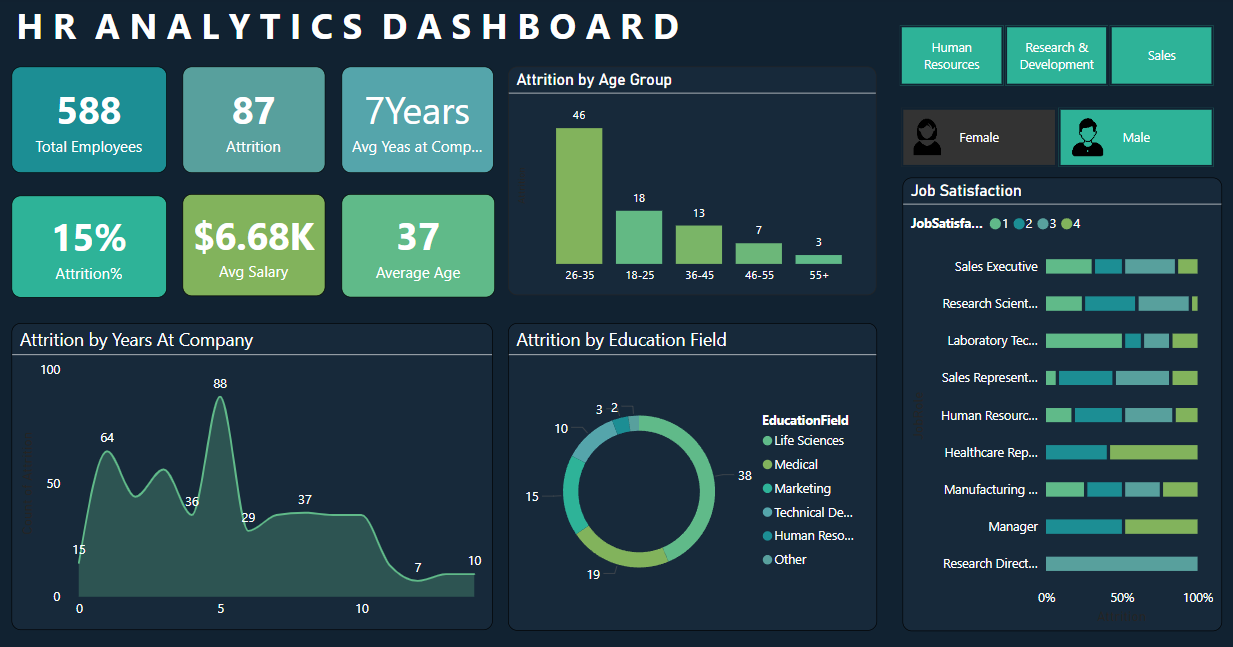

What the dashboard file says about the page in this screenshot:
{"tool":"powerbi","page":{"name":"Page 1","canvas":[1317,720],"ordinal":0},"visuals":[{"type":"card","title":"Total Employees","fields":{"Values":["Measures (2).employee_count"]},"box":[15,75,165,113.3],"z":0},{"type":"areaChart","title":"Attrition by Years At Company","fields":{"Y":["CountNonNull(HR_Analytics.Attrition)"],"Category":["HR_Analytics.YearsAtCompany"]},"box":[15,348.3,511.7,326.7],"z":1000},{"type":"card","fields":{"Values":["Measures (2).Avg_Years_at_Company"]},"box":[365,75,161.7,113.3],"z":2000},{"type":"card","fields":{"Values":["Measures (2).Attrition%"]},"box":[15,211.7,165,108.3],"z":3000},{"type":"card","fields":{"Values":["Measures (2).AvgSalary"]},"box":[196.7,210,151.7,108.3],"z":4000},{"type":"card","fields":{"Values":["Measures (2).AverageAge"]},"box":[365,210,163.3,110],"z":5000},{"type":"donutChart","title":"Attrition by Education Field","fields":{"Y":["Measures (2).Attrition"],"Category":["HR_Analytics.EducationField"]},"box":[542.5,347.5,392.5,327.5],"z":6000},{"type":"columnChart","title":"Attrition by Age Group","fields":{"Category":["HR_Analytics.AgeGroup"],"Y":["Measures (2).employee_attrition"]},"box":[543.3,75,391.7,243.3],"z":7000},{"type":"hundredPercentStackedBarChart","title":"Job Satisfaction","fields":{"Y":["Measures (2).employee_attrition"],"Series":["HR_Analytics.JobSatisfaction"],"Category":["HR_Analytics.JobRole"]},"box":[963.3,193.3,340,481.7],"z":8000},{"type":"card","fields":{"Values":["Measures (2).employee_attrition"]},"box":[196.7,75,151.7,113.3],"z":9000},{"type":"advancedSlicerVisual","fields":{"Values":["HR_Analytics.Gender"]},"box":[965,75,340,103.3],"z":10000},{"type":"advancedSlicerVisual","fields":{"Values":["HR_Analytics.Department"]},"box":[611.7,5,705,56.7],"z":11000},{"type":"textbox","box":[15,10,546.7,51.7],"z":12000},{"type":"actionButton","box":[1260,676.7,56.7,40],"z":13000}]}

Visuals, with their boxes on the page's 1317x720 design canvas (x1, y1, x2, y2). These are canvas units, not pixel positions in the 1233x647 screenshot, which may show the page scaled, cropped or inside an application window:
"Total Employees" card: [15, 75, 180, 188]
"Attrition by Years At Company" areaChart: [15, 348, 527, 675]
card - Measures (2).Avg_Years_at_Company: [365, 75, 527, 188]
card - Measures (2).Attrition%: [15, 212, 180, 320]
card - Measures (2).AvgSalary: [197, 210, 348, 318]
card - Measures (2).AverageAge: [365, 210, 528, 320]
"Attrition by Education Field" donutChart: [542, 348, 935, 675]
"Attrition by Age Group" columnChart: [543, 75, 935, 318]
"Job Satisfaction" hundredPercentStackedBarChart: [963, 193, 1303, 675]
card - Measures (2).employee_attrition: [197, 75, 348, 188]
advancedSlicerVisual - HR_Analytics.Gender: [965, 75, 1305, 178]
advancedSlicerVisual - HR_Analytics.Department: [612, 5, 1317, 62]
textbox: [15, 10, 562, 62]
actionButton: [1260, 677, 1317, 717]
